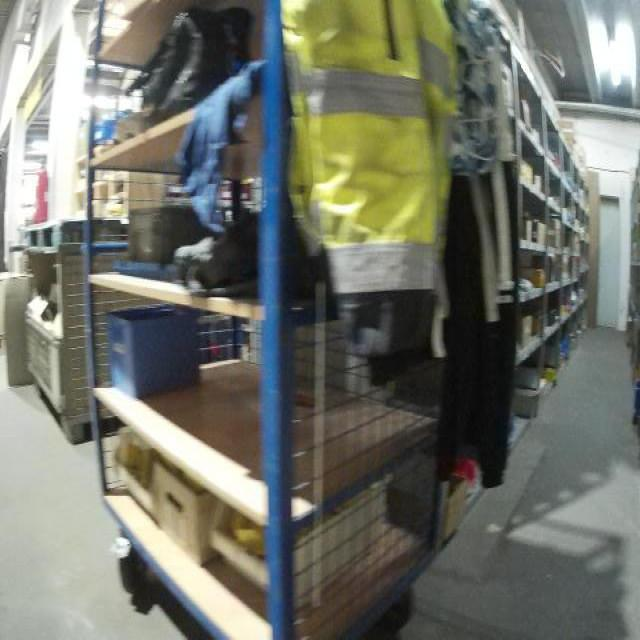small_load_carrier: (101, 301, 202, 397)
stillage: (22, 231, 183, 458)
